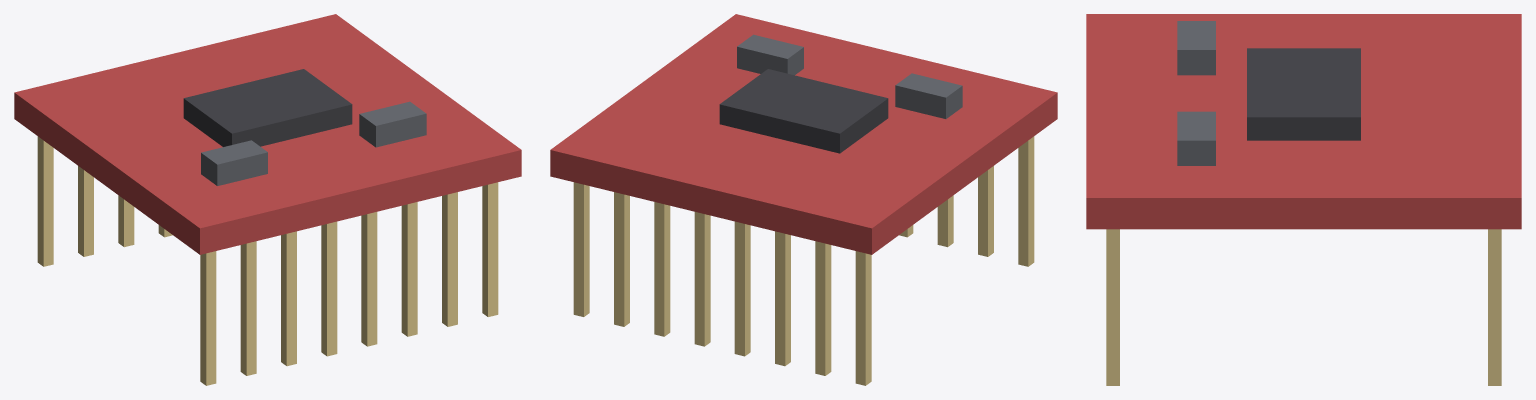
The picture shows the model from 3 angles, left to right: view 1: azimuth 30°, elevation 25°; view 2: azimuth 150°, elevation 25°; view 3: azimuth 270°, elevation 25°; orthographic projection. The views are drawn at different scales.
Visible parts, largest first — view 1: pcb, pins, driver, capacitors; view 2: pcb, pins, driver, capacitors; view 3: pcb, driver, pins, capacitors.
Boxes of the visible parts, x1,y1,x2,y2 form: pcb: [14, 14, 521, 254]; pins: [37, 136, 498, 385]; driver: [183, 69, 352, 146]; capacitors: [201, 101, 426, 185]; pcb: [550, 14, 1057, 254]; pins: [573, 136, 1034, 385]; driver: [719, 69, 888, 153]; capacitors: [737, 34, 962, 118]; pcb: [1086, 14, 1521, 229]; driver: [1247, 48, 1360, 140]; pins: [1106, 229, 1501, 385]; capacitors: [1177, 21, 1215, 165].
Size of the model in its own units: 0.0203 by 0.0114 by 0.0203.
